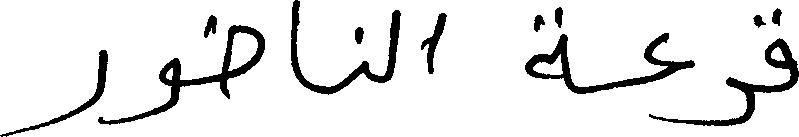X: (0, 45, 108, 136), (644, 28, 694, 129), (525, 2, 571, 95), (723, 11, 755, 130), (222, 20, 264, 103), (766, 3, 798, 97), (156, 53, 179, 119), (427, 8, 447, 78), (384, 5, 398, 87), (290, 0, 301, 88), (359, 22, 368, 83)
